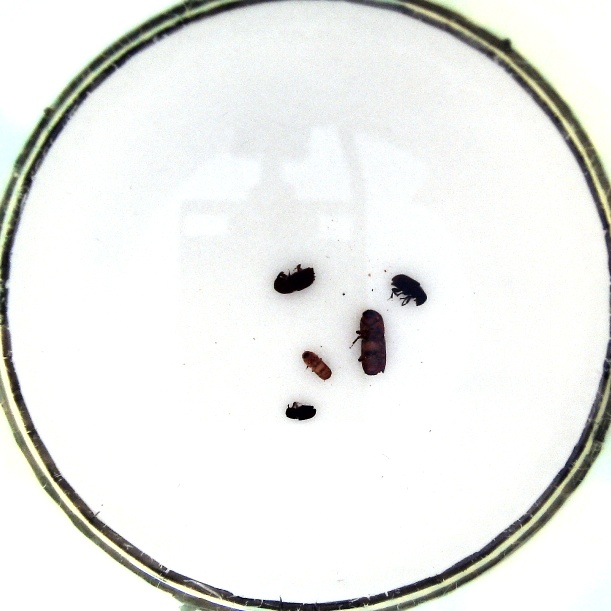acuminatus: (300, 347, 332, 387)
armandi: (388, 273, 430, 310)
boerner: (350, 308, 386, 380)
coleoptera: (282, 400, 317, 422)
linnaeus: (272, 263, 316, 297)
